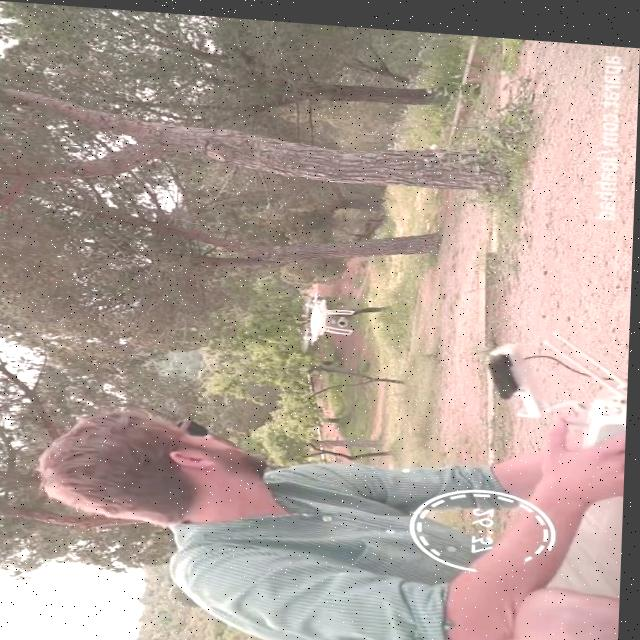drone: (299, 281, 359, 350)
